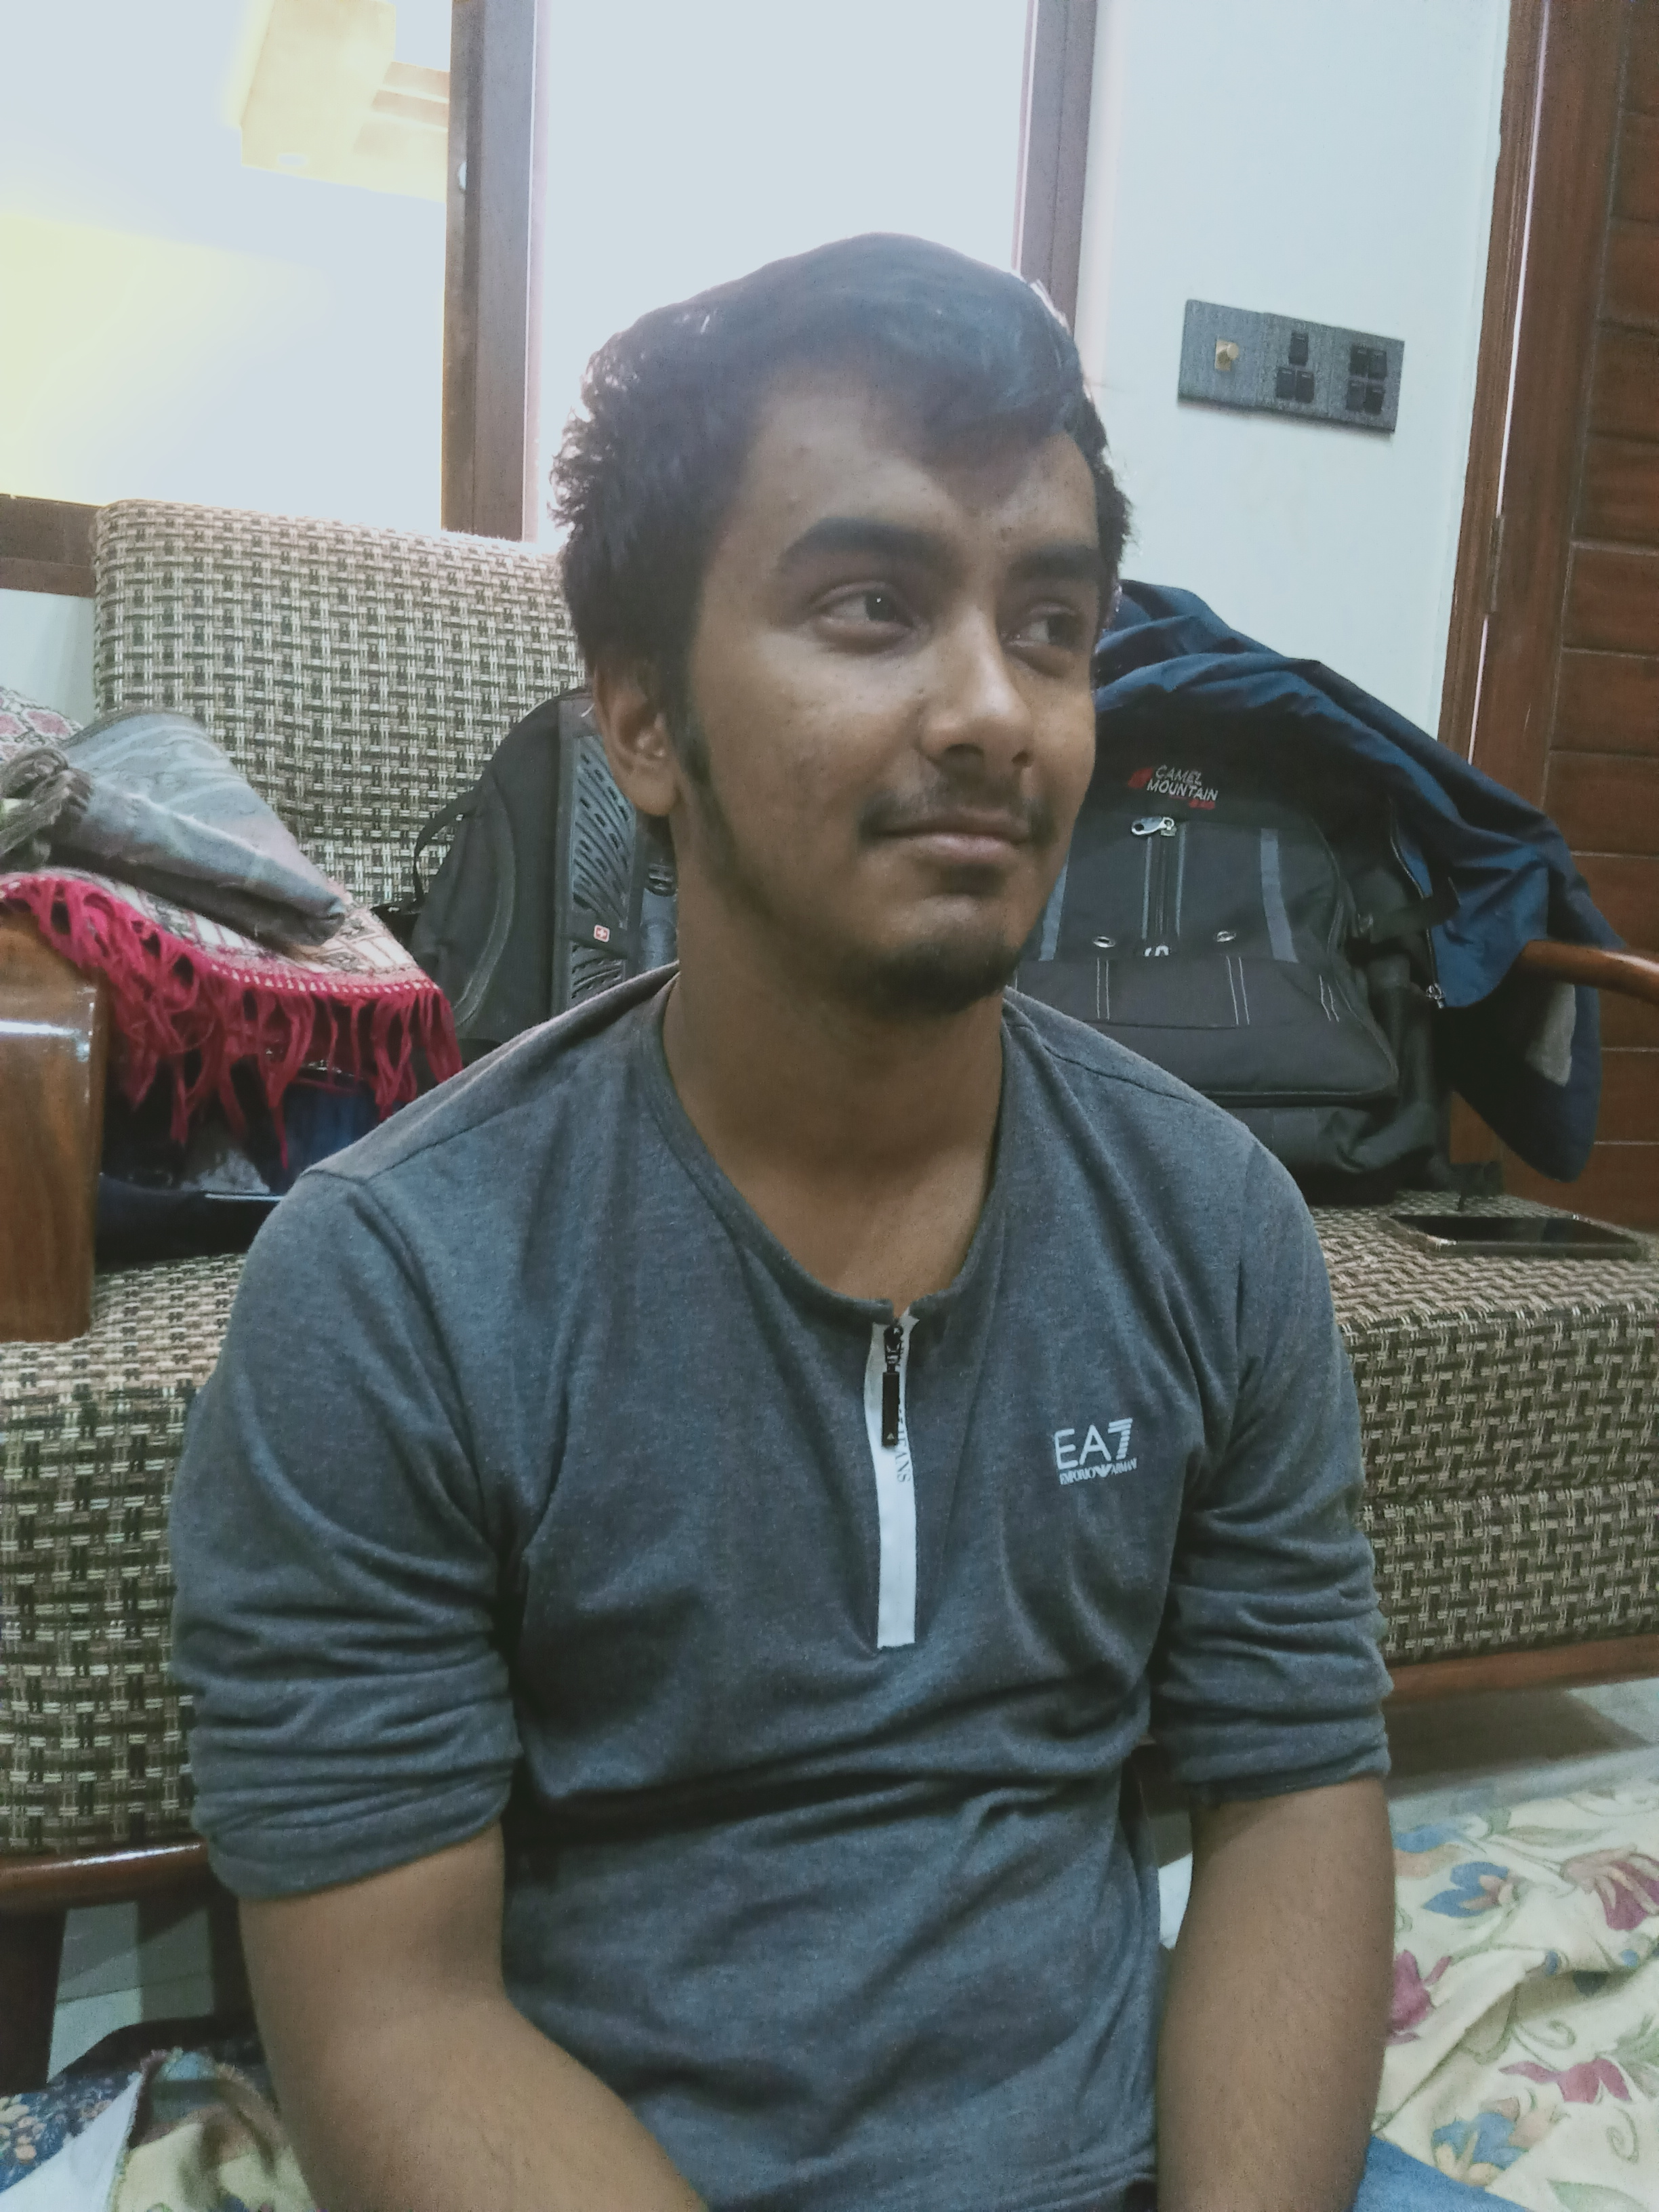NoMask: (758, 486, 1114, 994)
